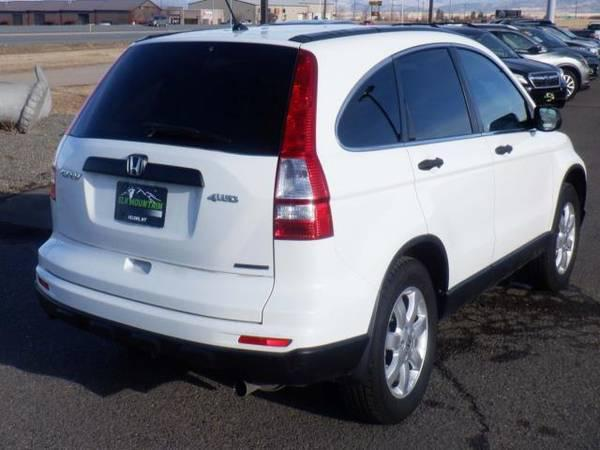Front_Right_Door: (488, 131, 563, 261)
Front_Right_Window: (452, 47, 542, 135)
Rear_Bumper: (31, 233, 390, 359)
Rear_Fender: (316, 58, 424, 270)
Rear_Right_Door: (404, 135, 494, 291)
Rear_Right_Window: (393, 45, 477, 144)
Rear_Windshield: (69, 44, 297, 157)
Right_Taillight: (273, 49, 333, 240)
Roof: (133, 27, 543, 140)
Tailgate: (48, 139, 279, 283)
Wheel: (363, 253, 445, 420), (550, 187, 585, 284)
